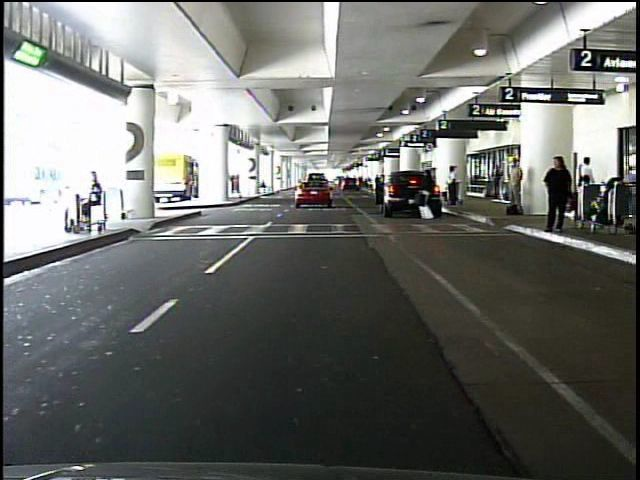person: (542, 152, 572, 239), (75, 169, 104, 228), (575, 156, 594, 212), (421, 167, 436, 222), (447, 165, 461, 208), (491, 161, 503, 201)
